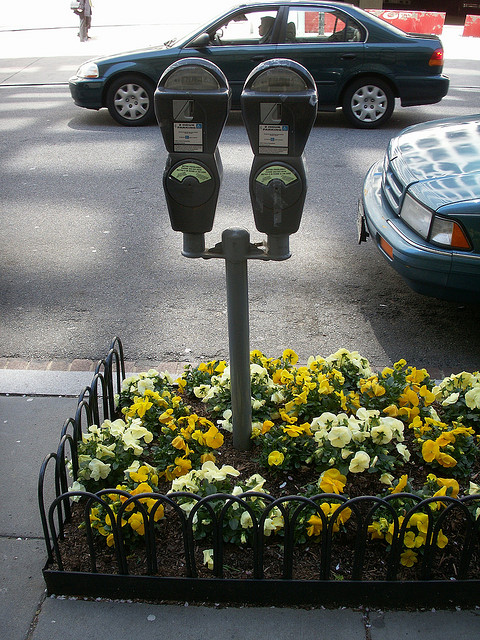Car: (359, 117, 480, 302)
Parking meter: (235, 73, 331, 265)
